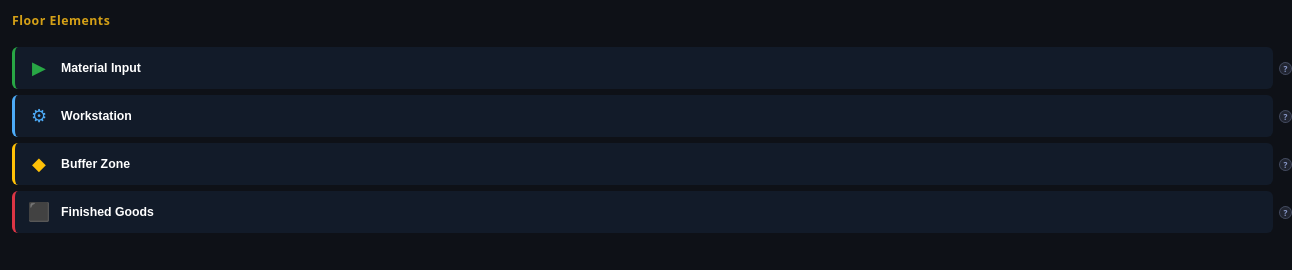
Test case: ElementPalette (StationPalette) › names sequential workstations incrementally
Click the button with aria-label "Add Workstation" at (96, 116), box [12,95,1273,137]
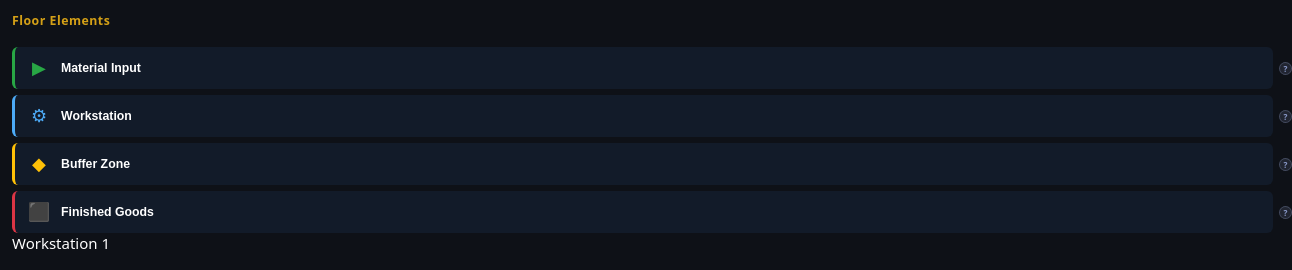
Click the button with aria-label "Add Workstation" at (96, 116), box [12,95,1273,137]
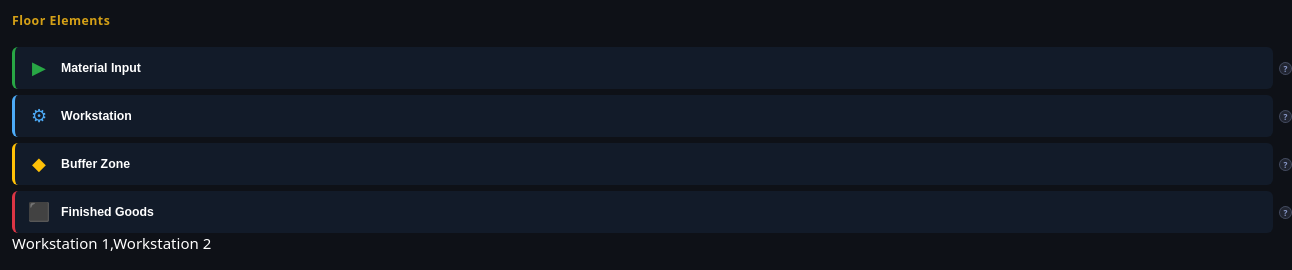
Check: the text with test id "names" reads "Workstation 1,Workstation 2", box [12,233,211,253]
